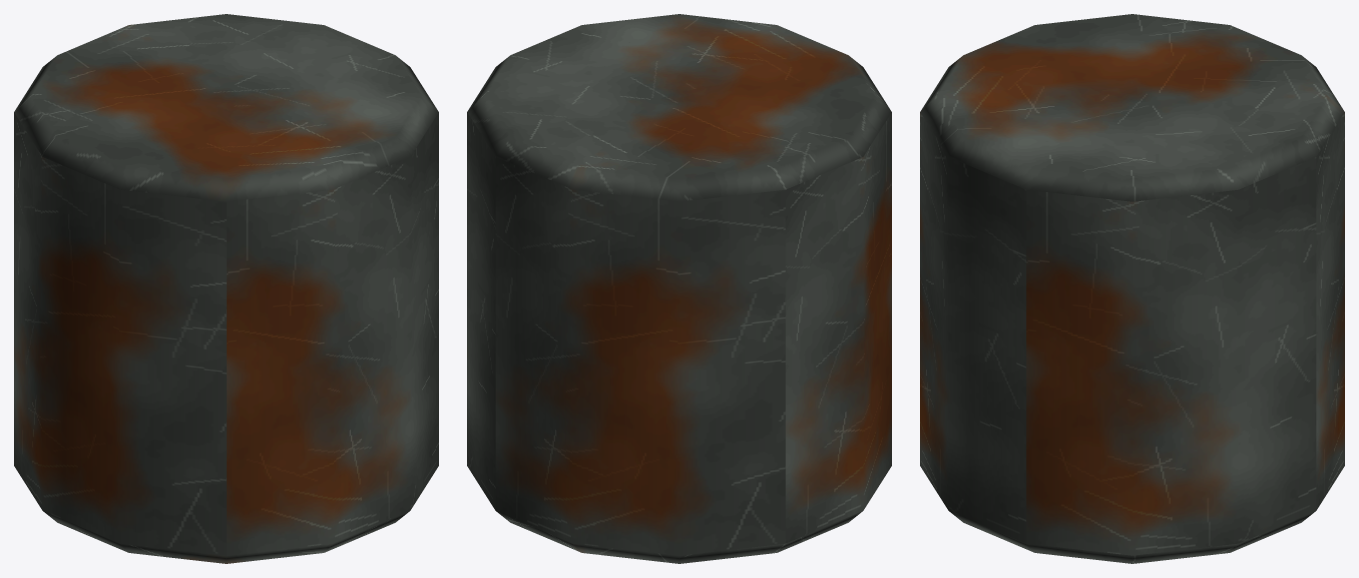
3 views of the same model, side by side, from view 1: azimuth 30°, elevation 25°; view 2: azimuth 150°, elevation 25°; view 3: azimuth 270°, elevation 25° (orthographic).
Parts seen in each view (by area): view 1: R4B_Cylinder_LOD1; view 2: R4B_Cylinder_LOD1; view 3: R4B_Cylinder_LOD1.
Boxes of the visible parts, box(x1,y1,x2,y2) form: R4B_Cylinder_LOD1: box(14, 14, 438, 563); R4B_Cylinder_LOD1: box(467, 14, 891, 563); R4B_Cylinder_LOD1: box(920, 14, 1344, 563).
Size of the model in its own units: 0.52 by 0.52 by 0.52.
Materials: 1 (1 with a texture image).
